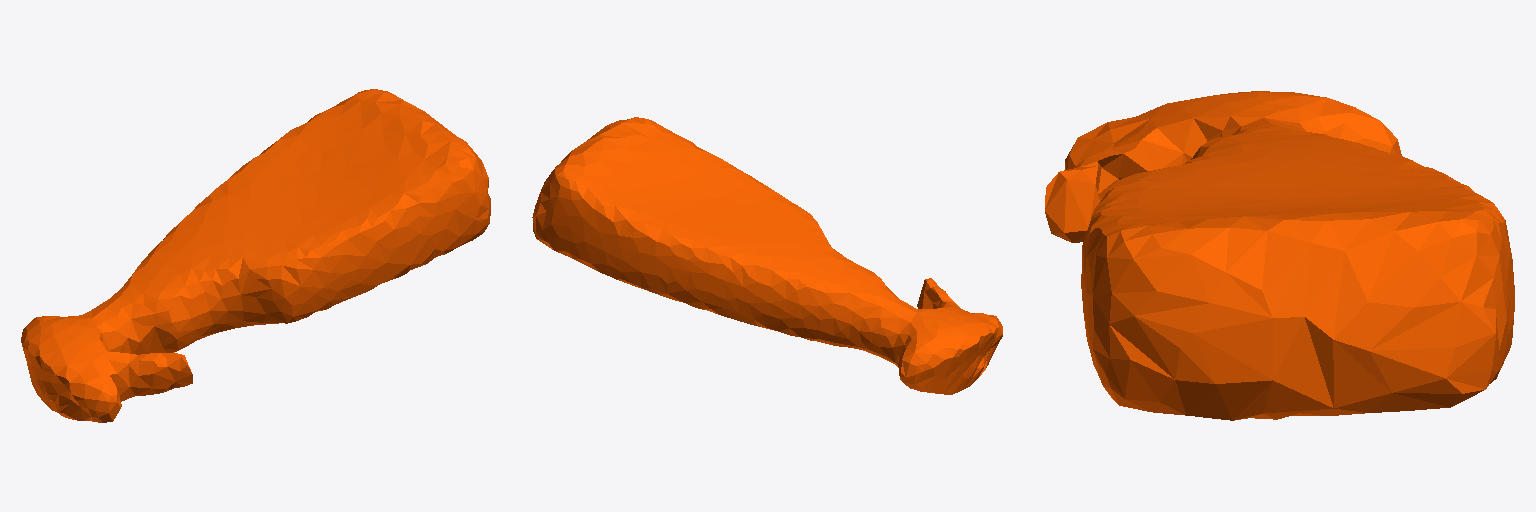
The robot description file, URDF, robot "flower_bottle_body":
<?xml version="1.0" ?>
<robot name="flower_bottle_body">
   <material name="obj_color">
      <color rgba="1.0 0.423529411765 0.0392156862745 1.0"/>
   </material>
   <link name="top">
      <inertial>
         <origin rpy="0.001144644930784786 0.006807286137431544 0.007598988401397346" xyz="0.03200780931404412 0.004504179967064429 0.009003274397123713"/>
         <mass value="1.433627082161164"/>
         <inertia ixx="0.001617996445321817" ixy="-0.0004022867597037066" ixz="-0.001623934942151817" iyy="0.00677658443453998" iyz="-0.0001462729051564451" izz="0.00715633858975188"/>
      </inertial>
      <visual>
         <origin rpy="0 0 0" xyz="0 0 0"/>
         <geometry>
            <mesh filename="top_watertight_tiny.stl" scale="1 1 1"/>
         </geometry>
         <material name="obj_color"/>
      </visual>
      <collision>
         <origin rpy="0 0 0" xyz="0 0 0"/>
         <geometry>
            <mesh filename="top_watertight_tiny.obj" scale="1 1 1"/>
         </geometry>
      </collision>
   </link>
   <link name="bottom">
      <inertial>
         <origin rpy="1.633333333199431e-08 1.633333333199431e-08 1.633333333362855e-08" xyz="0.3464080000000008 0.3464080000000008 0.3464080000000008"/>
         <mass value="0.0009800000000000017"/>
         <inertia ixx="1.633333333253906e-08" ixy="5.447480642029219e-19" ixz="5.447480642029219e-19" iyy="1.633333333253906e-08" iyz="5.447480642029219e-19" izz="1.633333333253906e-08"/>
      </inertial>
      <visual>
         <origin rpy="0 0 0" xyz="0 0 0"/>
         <geometry>
            <mesh filename="bottom_watertight_tiny.stl" scale="1 1 1"/>
         </geometry>
         <material name="obj_color"/>
      </visual>
   </link>
   <link name="world"/>
   <joint name="world_to_base" type="fixed">
      <origin xyz="0 0 0"/>
      <axis xyz="0 0 0"/>
      <parent link="world"/>
      <child link="bottom"/>
   </joint>
   <joint name="rotation" type="revolute">
      <origin xyz="0 0 0"/>
      <axis xyz="0 0 -1"/>
      <parent link="bottom"/>
      <child link="top"/>
      <dynamics damping="1.0" friction="1.0"/>
      <limit effort="0.1" velocity="0.1" lower="0" upper="0.001"/>
   </joint>
</robot>

--- Facts derived from the render (not from the file) ---
Views: 3 orthographic renders of the robot side by side, from view 1: azimuth 30°, elevation 25°; view 2: azimuth 150°, elevation 25°; view 3: azimuth 270°, elevation 25°.
Robot: flower_bottle_body — 3 links, 2 joints (1 revolute, 1 fixed); root link world; default pose: all joints at 0.
Links seen in each view (by area): view 1: top; view 2: top; view 3: top.
Link boxes in pixels (x1,y1,x2,y2): top: (21,89,490,422); top: (532,117,1002,394); top: (1045,91,1514,420).
Bounding box of the posed robot: 0.2527 × 0.1195 × 0.1027 m (x, y, z).
1 mesh visuals loaded from 2 distinct referenced files (1 binary STL); not drawn: 1 (reference not matched to a file when rendering).
